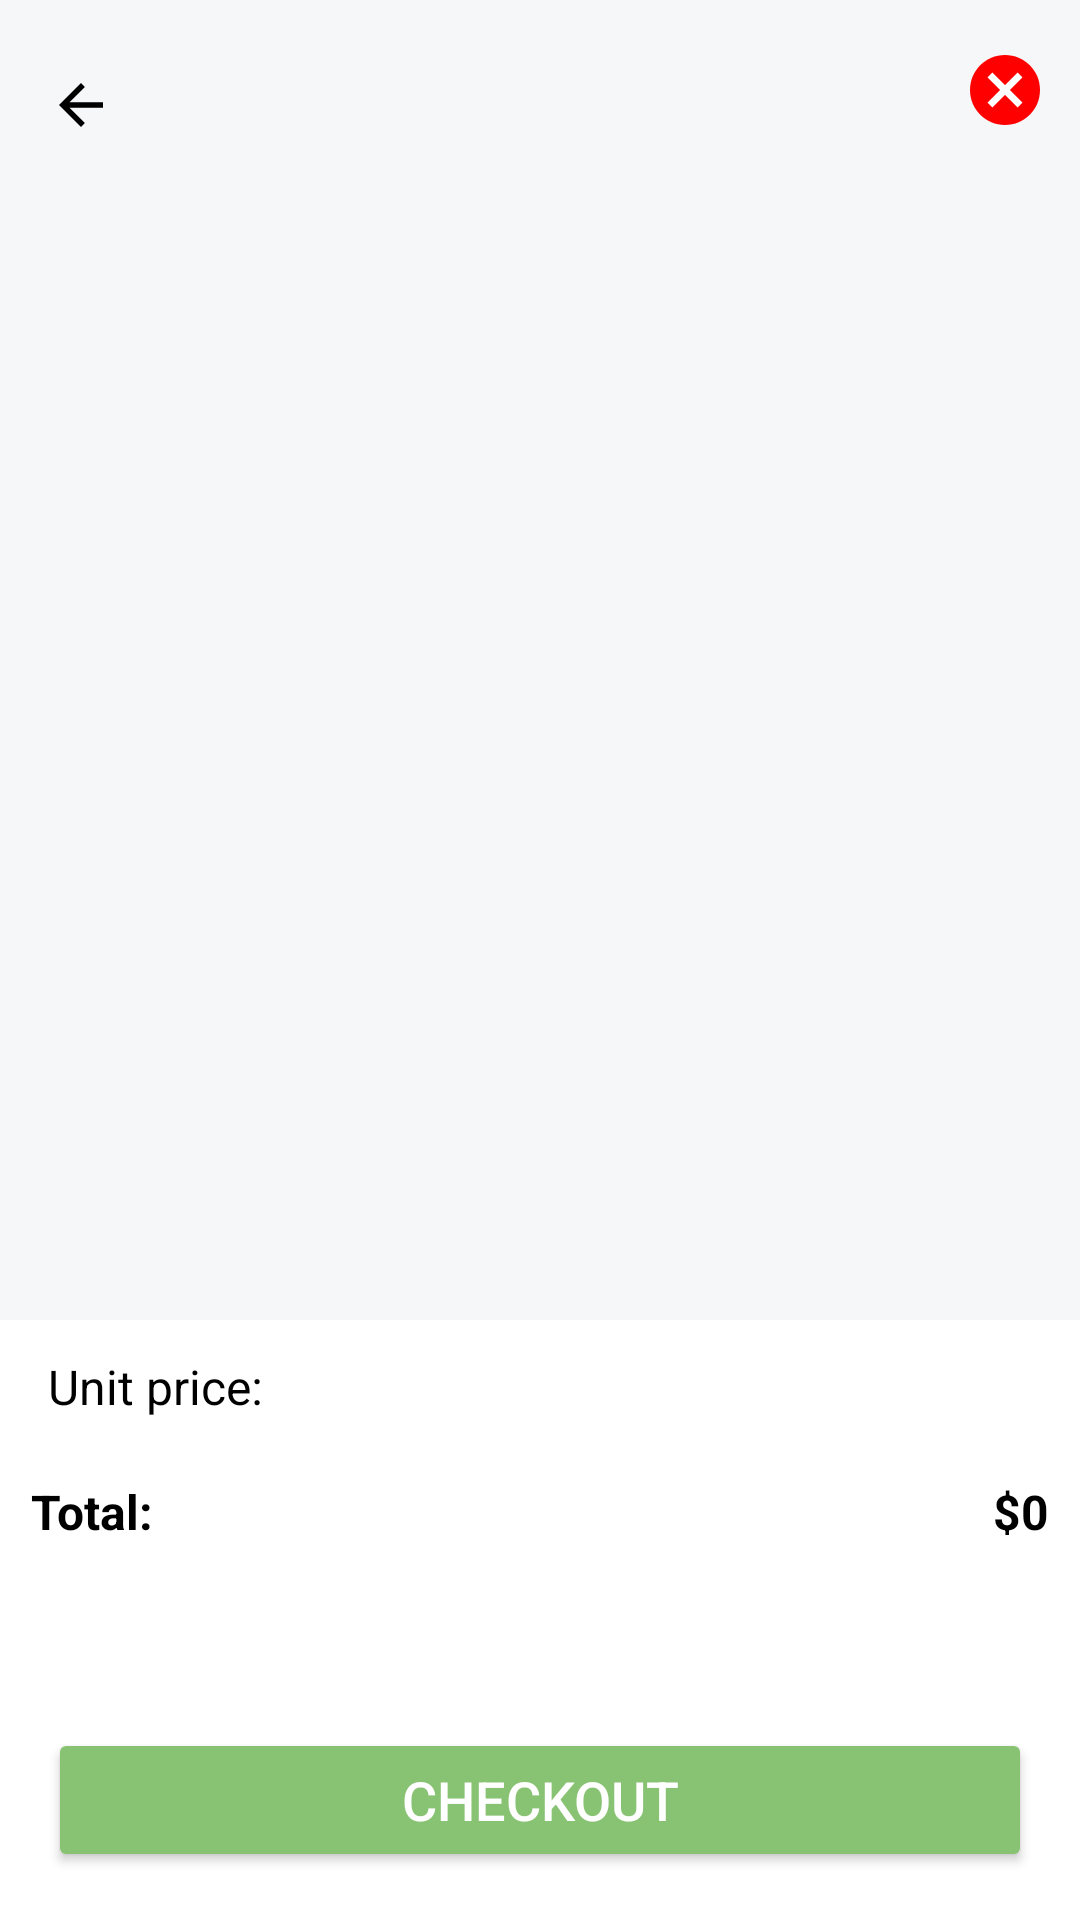

Icon bounding boxes for this 1080 x 1920 phone screenshot, format (x1, y1, x2, y2):
back arrow: (59, 83, 103, 127)
clear: (970, 55, 1040, 125)
